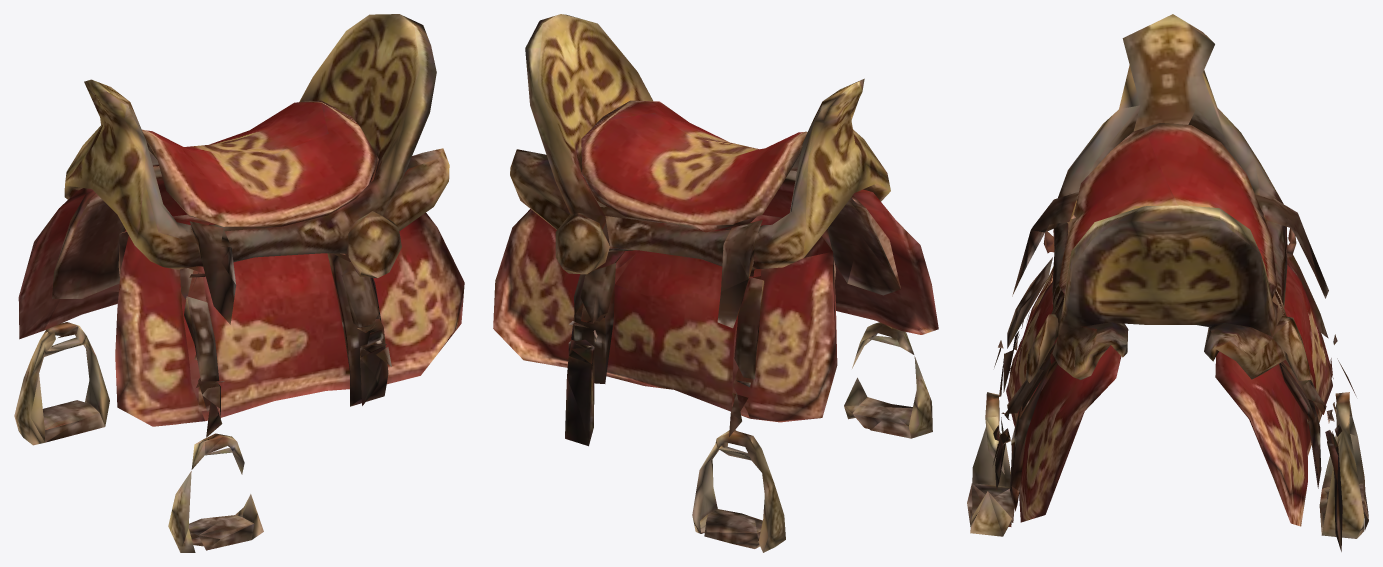
The model's file is saddle.phone.glb.
3 renders of one model, left to right at view 1: azimuth 30°, elevation 25°; view 2: azimuth 150°, elevation 25°; view 3: azimuth 270°, elevation 25°, orthographic. The views are drawn at different scales.
Parts seen in each view (by area): view 1: saddle.raw; view 2: saddle.raw; view 3: saddle.raw.
Boxes of the visible parts, box(x1,y1,x2,y2) form: saddle.raw: box(14, 14, 464, 552); saddle.raw: box(493, 14, 938, 552); saddle.raw: box(967, 14, 1368, 551).
Size of the model in its own units: 0.5349 by 0.6 by 0.4553.
Materials: 1 (1 with a texture image).
